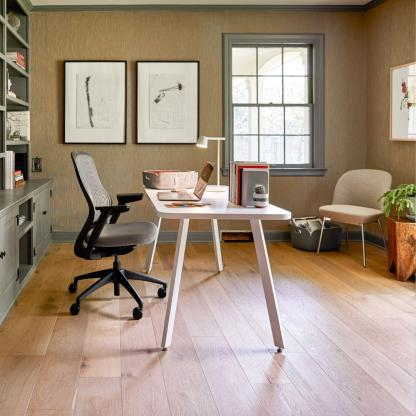chair: (64, 141, 170, 334), (314, 159, 395, 270)
light: (194, 134, 232, 194)
table: (146, 175, 293, 359)
